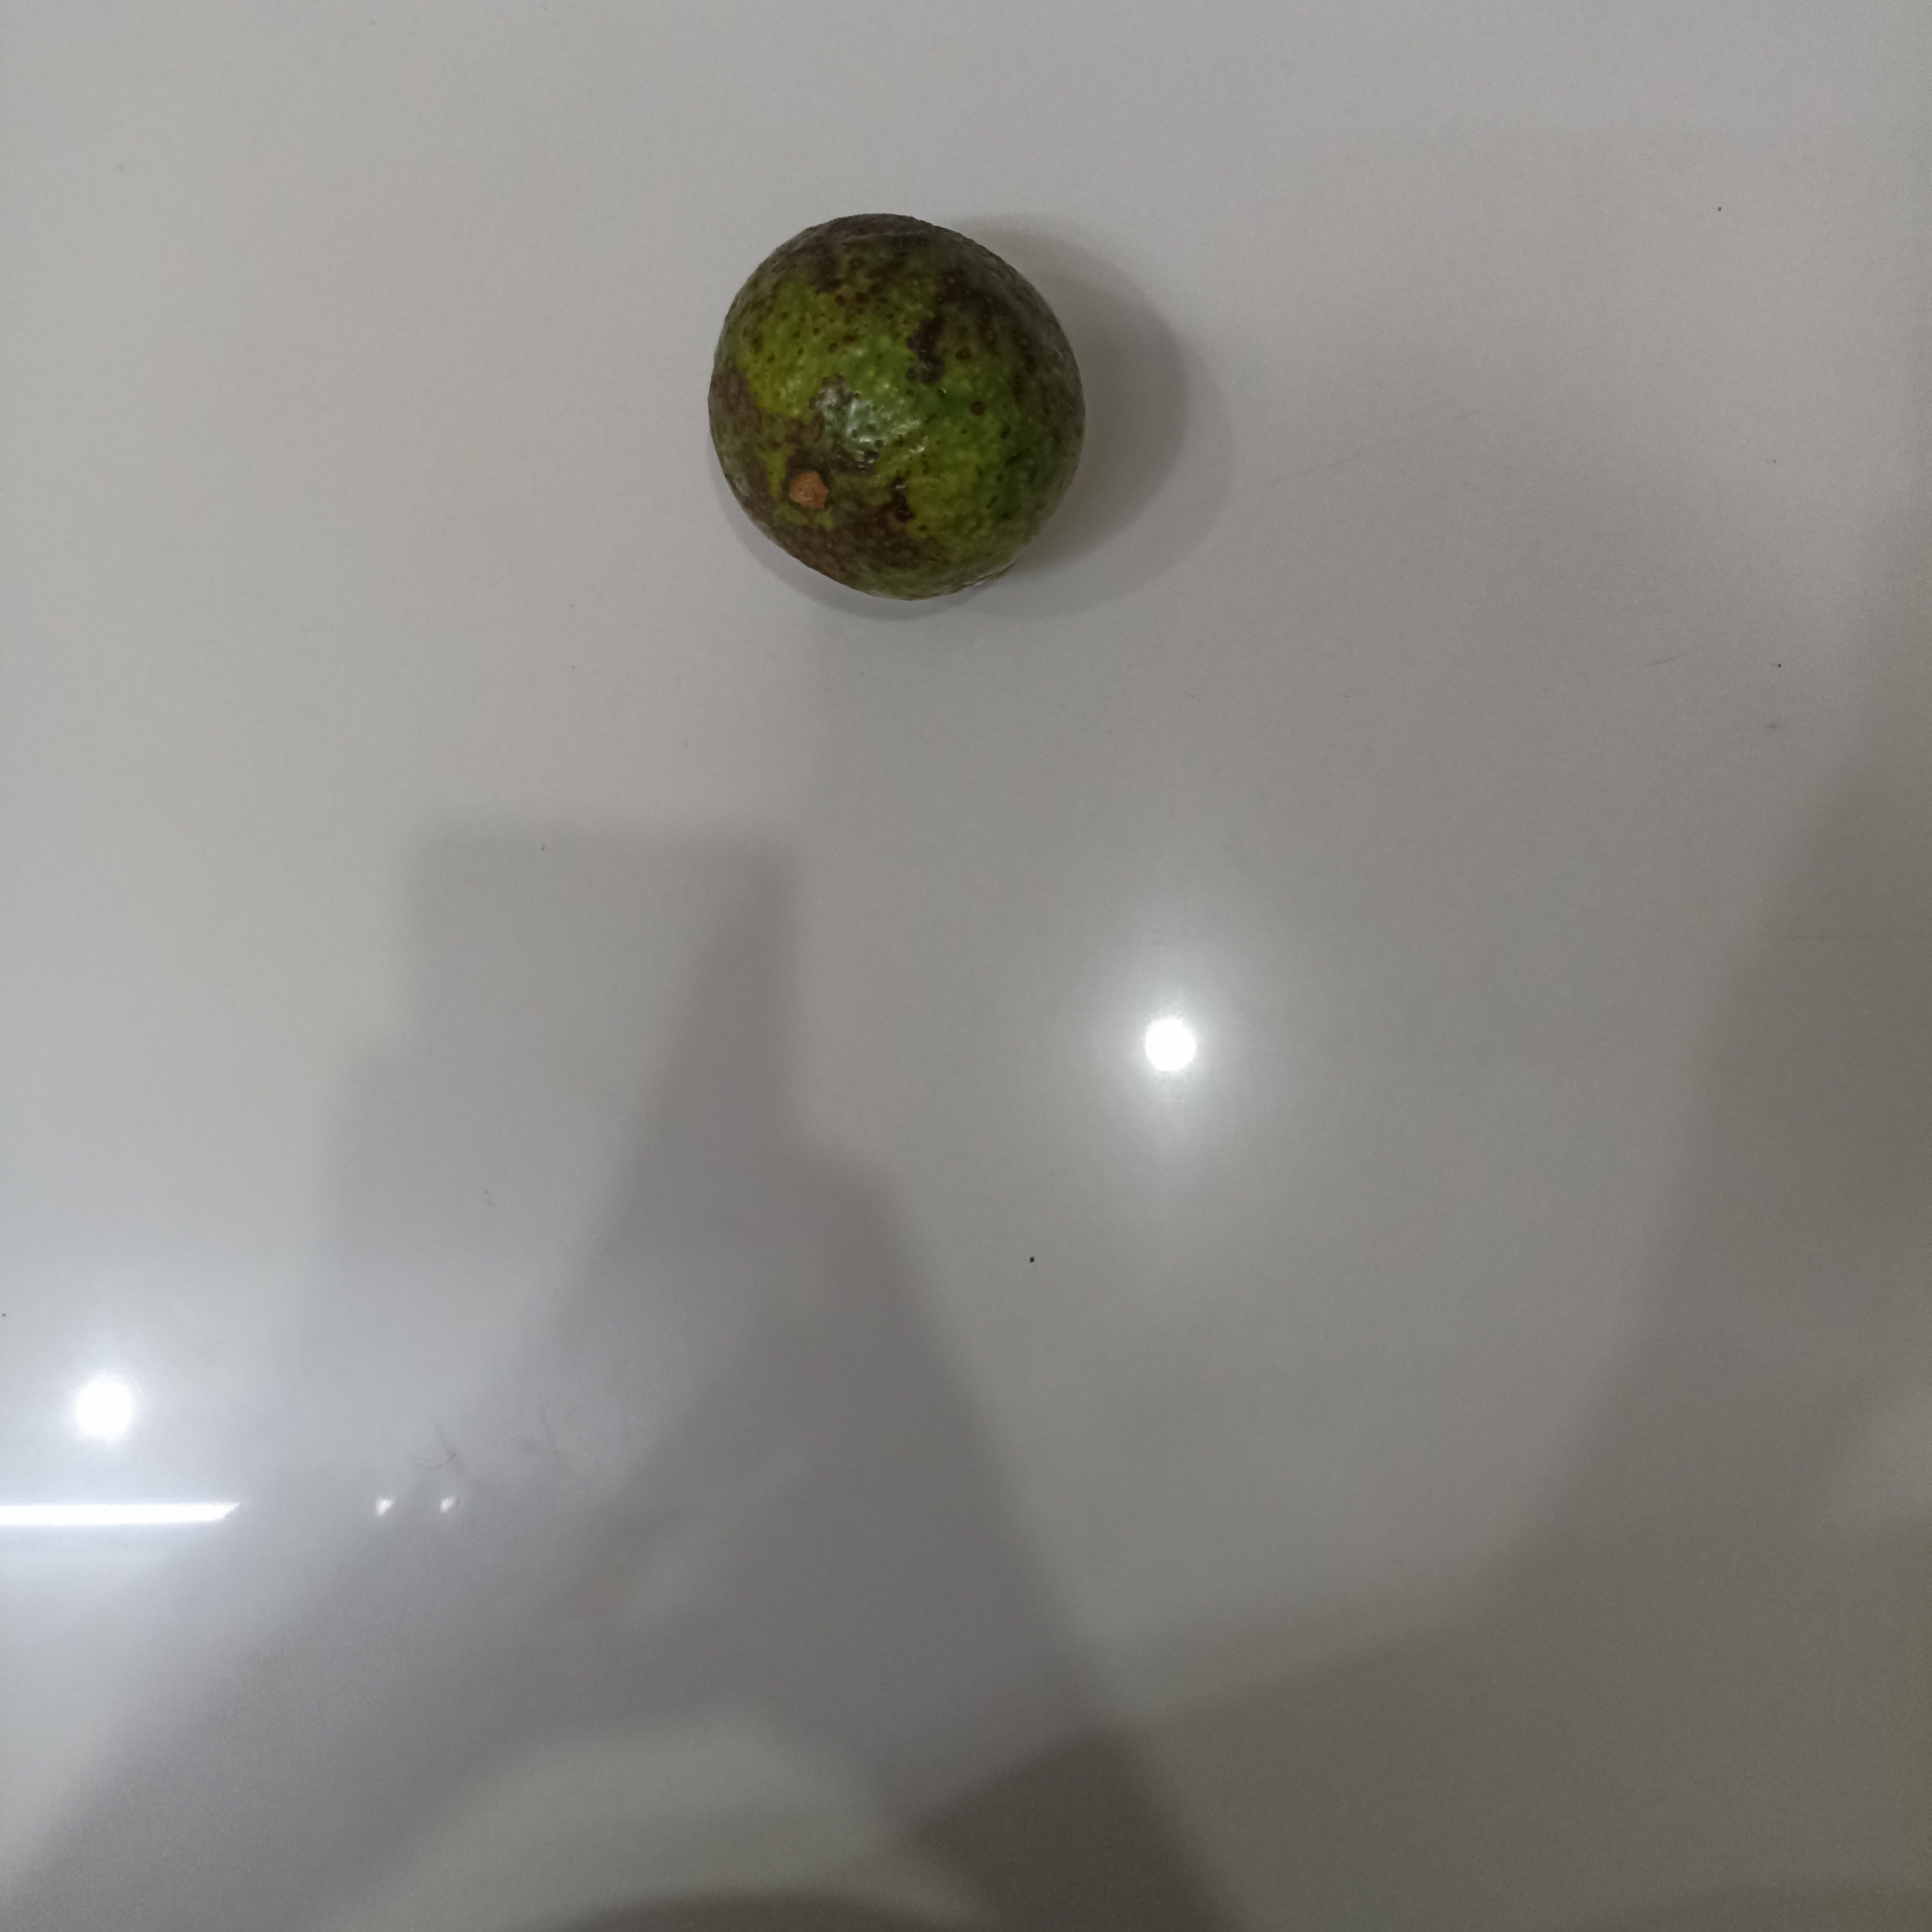Bo: (698, 213, 1092, 603)
